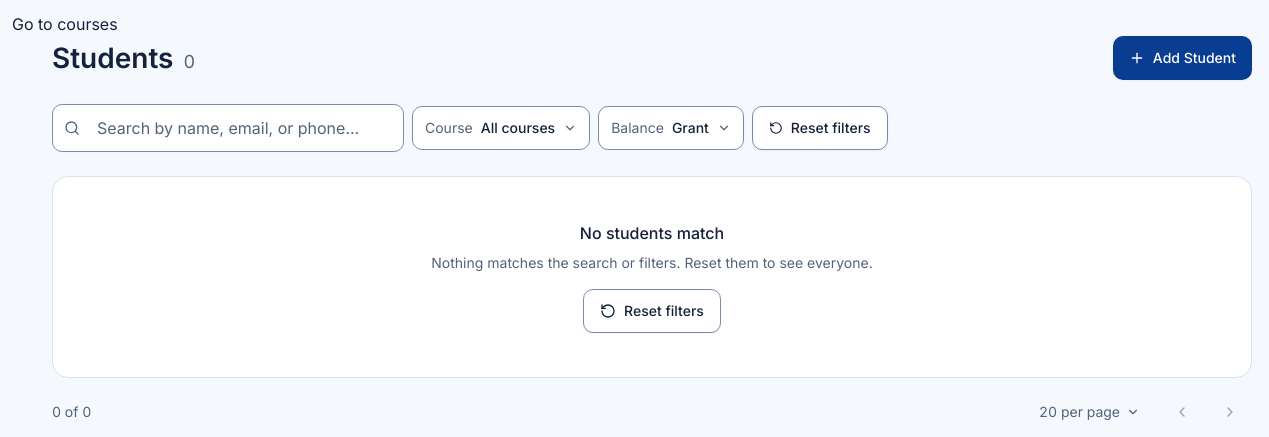
Test: Students page filters › shows the filtered empty state and resets filters back to the full list
Expected: the text "No students match" is shown, [580,221,724,245]
Click the button "Reset filters" below "No students match" at coordinates (652, 311), box [583,289,721,333]
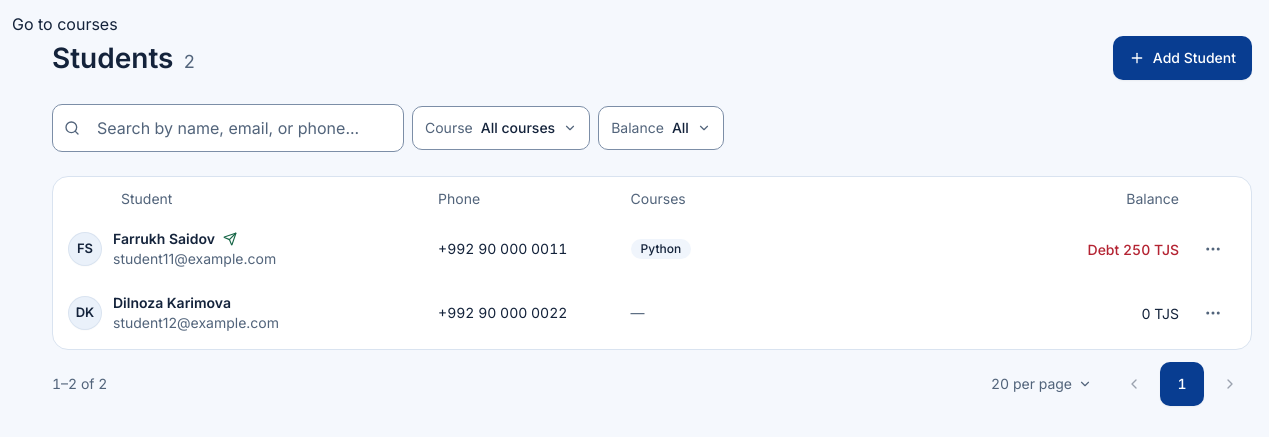
Expected: the text "Farrukh Saidov" is shown, [113,229,215,249]
